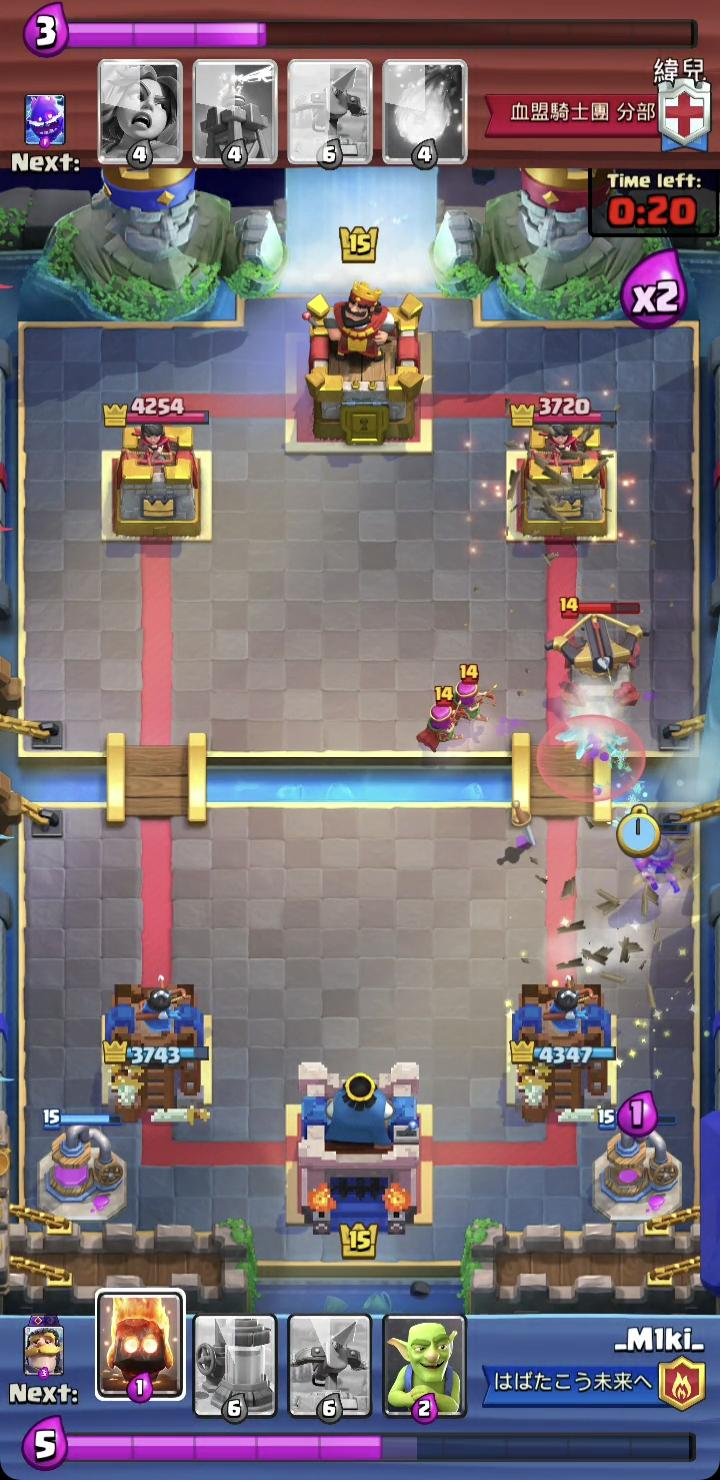ally_elixirpump: (591, 1106, 686, 1225), (35, 1108, 129, 1226)
ally_musketeer: (627, 816, 693, 902)
enemy_archer: (415, 684, 469, 757), (450, 665, 494, 744)
enemy_xbow: (543, 596, 654, 709)
